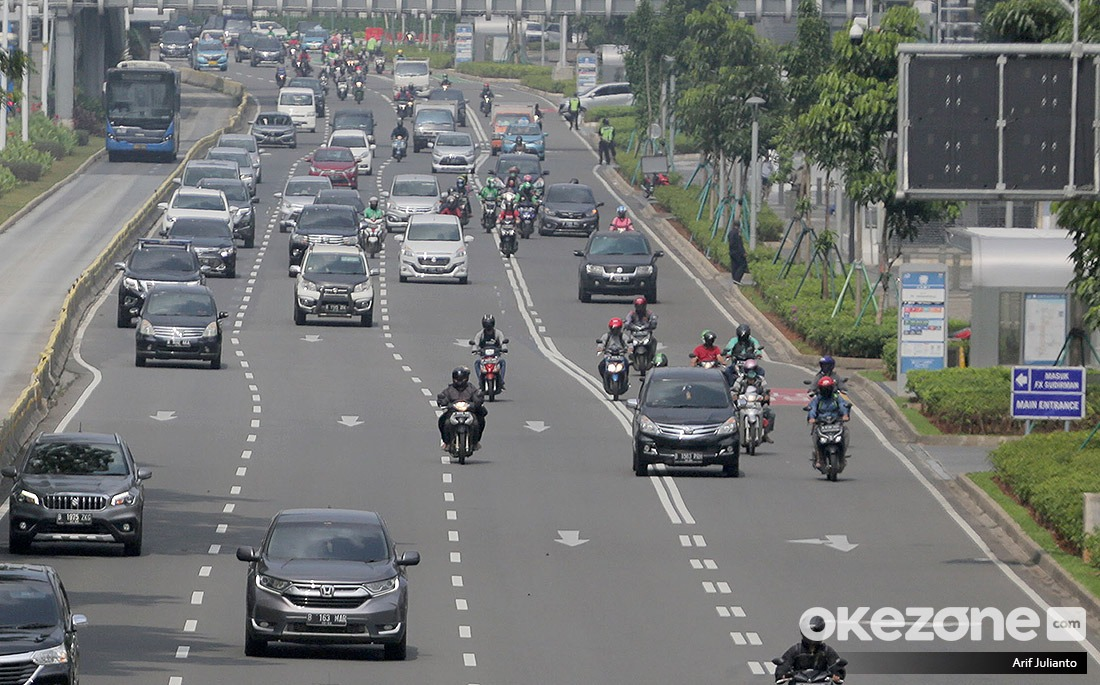mobil: (239, 490, 430, 664), (8, 421, 153, 562), (103, 233, 232, 380), (632, 365, 741, 480), (286, 239, 383, 329), (571, 223, 668, 305), (394, 209, 477, 288)
sepeda: (427, 391, 496, 474), (800, 402, 856, 485), (465, 330, 517, 403), (590, 335, 637, 409), (732, 379, 774, 459)
